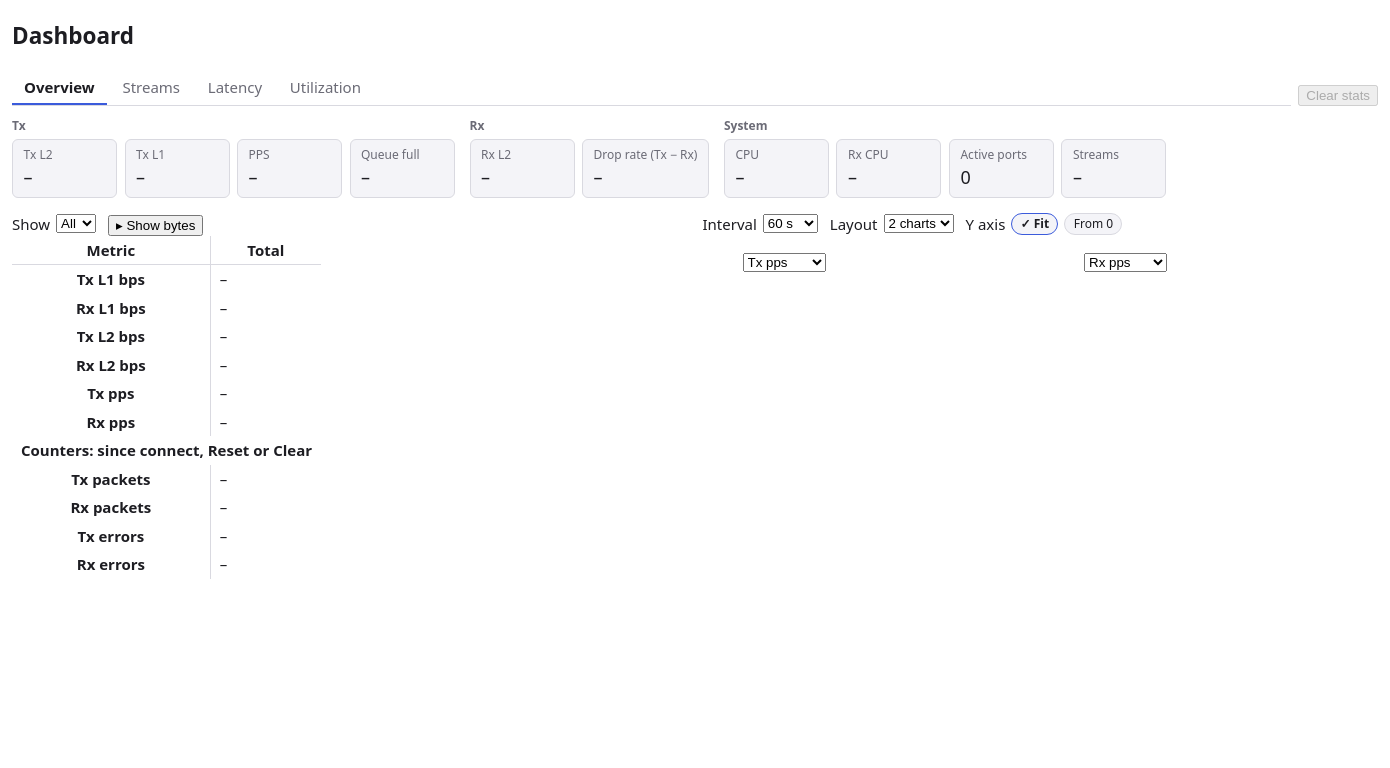
Test: StatsChart › layout 2 shows two charts by default and 4 shows four
Select "4 charts" in the dropdown labelled "Layout" at (918, 224), box [884,214,954,233]
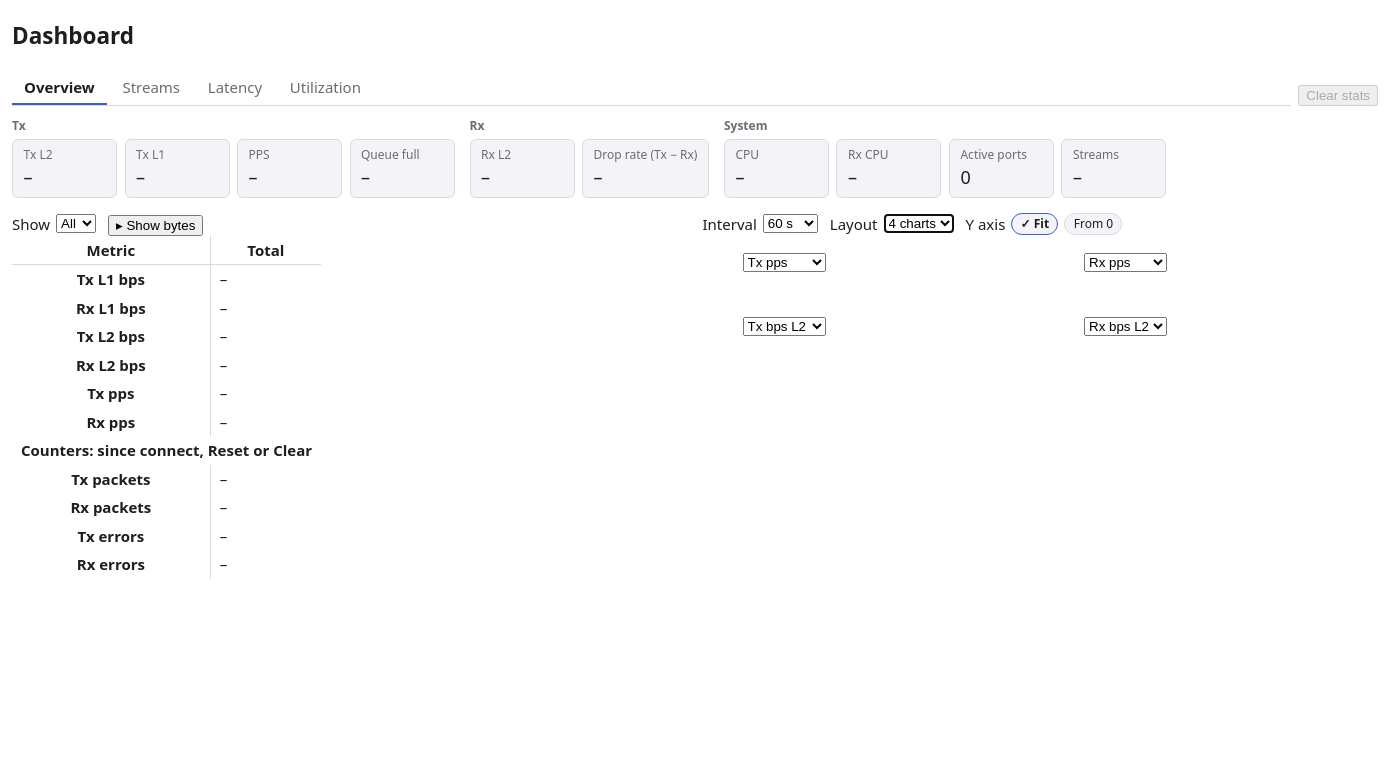
Check: the number of dropdowns named "Chart 1 series" is 4, box [742,253,826,272]; [1084,253,1167,272]; [742,317,826,336]; [1084,317,1167,336]
